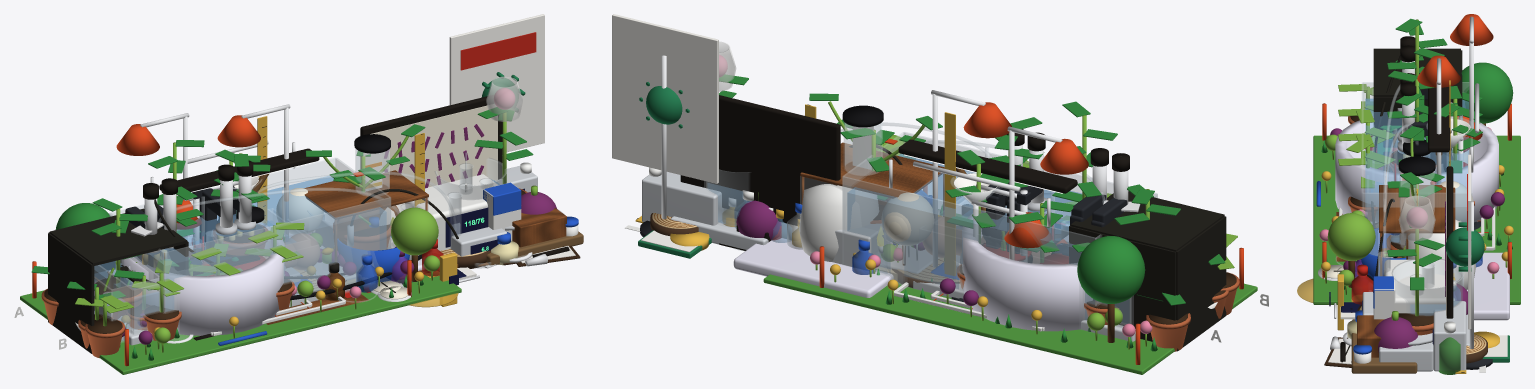
File: bench-bio.glb
3 views of the same model, side by side, from view 1: azimuth 30°, elevation 25°; view 2: azimuth 150°, elevation 25°; view 3: azimuth 270°, elevation 25° (orthographic). The views are drawn at different scales.
Visible parts, largest first — view 1: Set_MINI_ECOSYSTEM, Set_COMMUNITY, Set_TROPISM, Set_YOGURT, Set_CHROMOSOME_MUTATION, Set_VIRUS_SURVEY, Set_MODIFICATION, Set_METAMORPHOSIS, Set_SEED_RESPIRATION, Set_CIRCULATION, Set_APICAL_DOMINANCE, Set_PROPAGATION (+12 smaller); view 2: Set_MINI_ECOSYSTEM, Set_VIRUS_SURVEY, Set_COMMUNITY, Set_TROPISM, Set_CHROMOSOME_MUTATION, Set_YOGURT, Set_MODIFICATION, Set_SEED_RESPIRATION, Set_APICAL_DOMINANCE, Set_MITOSIS_SLIDE, Set_LEAF_STARCH, Set_QUADRAT (+13 smaller); view 3: Set_COMMUNITY, Set_YOGURT, Set_MINI_ECOSYSTEM, Set_MODIFICATION, Set_TROPISM, Set_PROPAGATION, Set_SEED_RESPIRATION, Set_BIOMOLECULES, Set_VIRUS_SURVEY, Set_CIRCULATION, Set_APICAL_DOMINANCE, Set_DNA_EXTRACT (+12 smaller).
Boxes of the visible parts, <box> form: Set_MINI_ECOSYSTEM: <box>109,140,506,331</box>; Set_COMMUNITY: <box>20,203,580,374</box>; Set_TROPISM: <box>48,189,583,353</box>; Set_YOGURT: <box>122,182,521,335</box>; Set_CHROMOSOME_MUTATION: <box>120,96,502,324</box>; Set_VIRUS_SURVEY: <box>218,14,544,345</box>; Set_MODIFICATION: <box>14,155,564,358</box>; Set_METAMORPHOSIS: <box>94,170,569,342</box>; Set_SEED_RESPIRATION: <box>94,166,537,345</box>; Set_CIRCULATION: <box>126,174,497,301</box>; Set_APICAL_DOMINANCE: <box>148,116,496,268</box>; Set_PROPAGATION: <box>67,76,533,348</box>; Set_MINI_ECOSYSTEM: <box>842,132,1157,332</box>; Set_VIRUS_SURVEY: <box>612,14,718,236</box>; Set_COMMUNITY: <box>638,134,1257,374</box>; Set_TROPISM: <box>832,191,1226,351</box>; Set_CHROMOSOME_MUTATION: <box>680,95,1129,250</box>; Set_YOGURT: <box>733,191,1092,331</box>; Set_MODIFICATION: <box>799,150,1268,351</box>; Set_SEED_RESPIRATION: <box>642,122,1135,341</box>; Set_APICAL_DOMINANCE: <box>809,93,1117,275</box>; Set_MITOSIS_SLIDE: <box>771,148,1108,284</box>; Set_LEAF_STARCH: <box>733,126,1180,273</box>; Set_QUADRAT: <box>625,185,1243,371</box>; Set_COMMUNITY: <box>1313,62,1520,367</box>; Set_YOGURT: <box>1329,116,1509,330</box>; Set_MINI_ECOSYSTEM: <box>1362,82,1479,315</box>; Set_MODIFICATION: <box>1330,84,1482,371</box>; Set_TROPISM: <box>1297,48,1482,373</box>; Set_PROPAGATION: <box>1350,125,1454,335</box>; Set_SEED_RESPIRATION: <box>1371,85,1466,371</box>; Set_BIOMOLECULES: <box>1351,216,1469,345</box>; Set_VIRUS_SURVEY: <box>1316,154,1492,369</box>; Set_CIRCULATION: <box>1318,259,1445,313</box>; Set_APICAL_DOMINANCE: <box>1387,18,1450,258</box>; Set_DNA_EXTRACT: <box>1353,102,1476,374</box>.
Size of the model in its own units: 5.7 by 2.07 by 2.05.
Materials: 122 (1 with a texture image).
